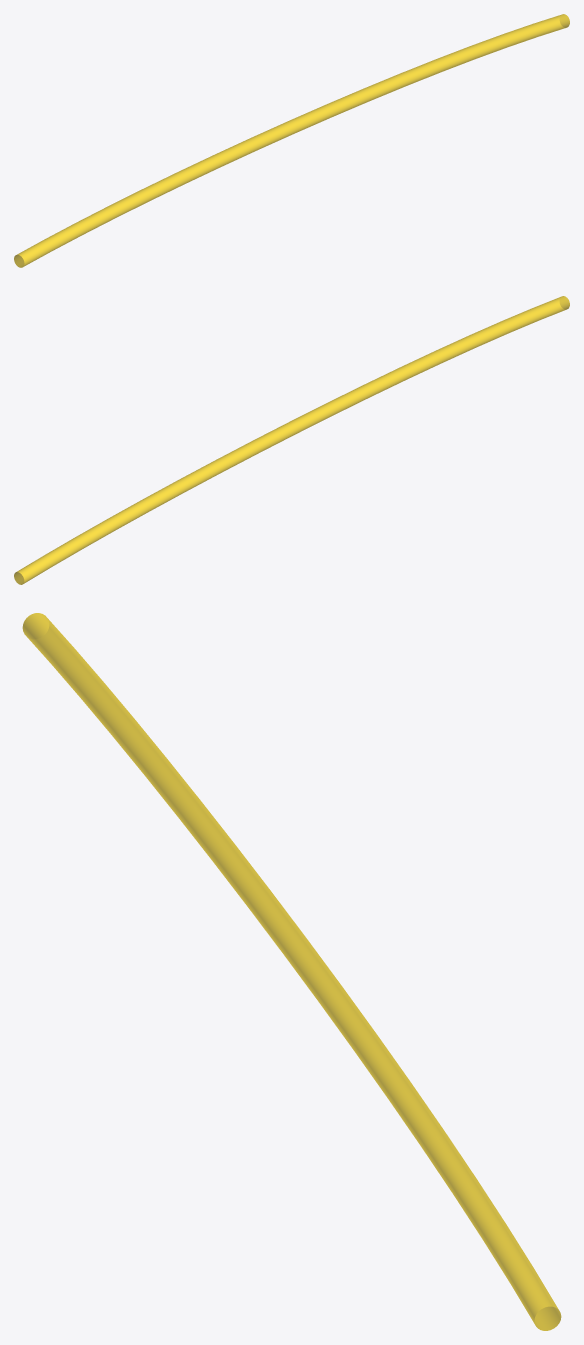
File: Event_402970704_track_15.fbx
3 renders of one model, top to bottom at view 1: azimuth 30°, elevation 25°; view 2: azimuth 210°, elevation 25°; view 3: azimuth 270°, elevation 25°, orthographic. The views are drawn at different scales.
Parts seen in each view (by area): view 1: Model; view 2: Model; view 3: Model.
Boxes of the visible parts, <box> form: Model: <box>14,14,569,267</box>; Model: <box>14,296,569,584</box>; Model: <box>22,613,561,1330</box>.
Size of the model in its own units: 2.22 by 0.1141 by 0.7637.
